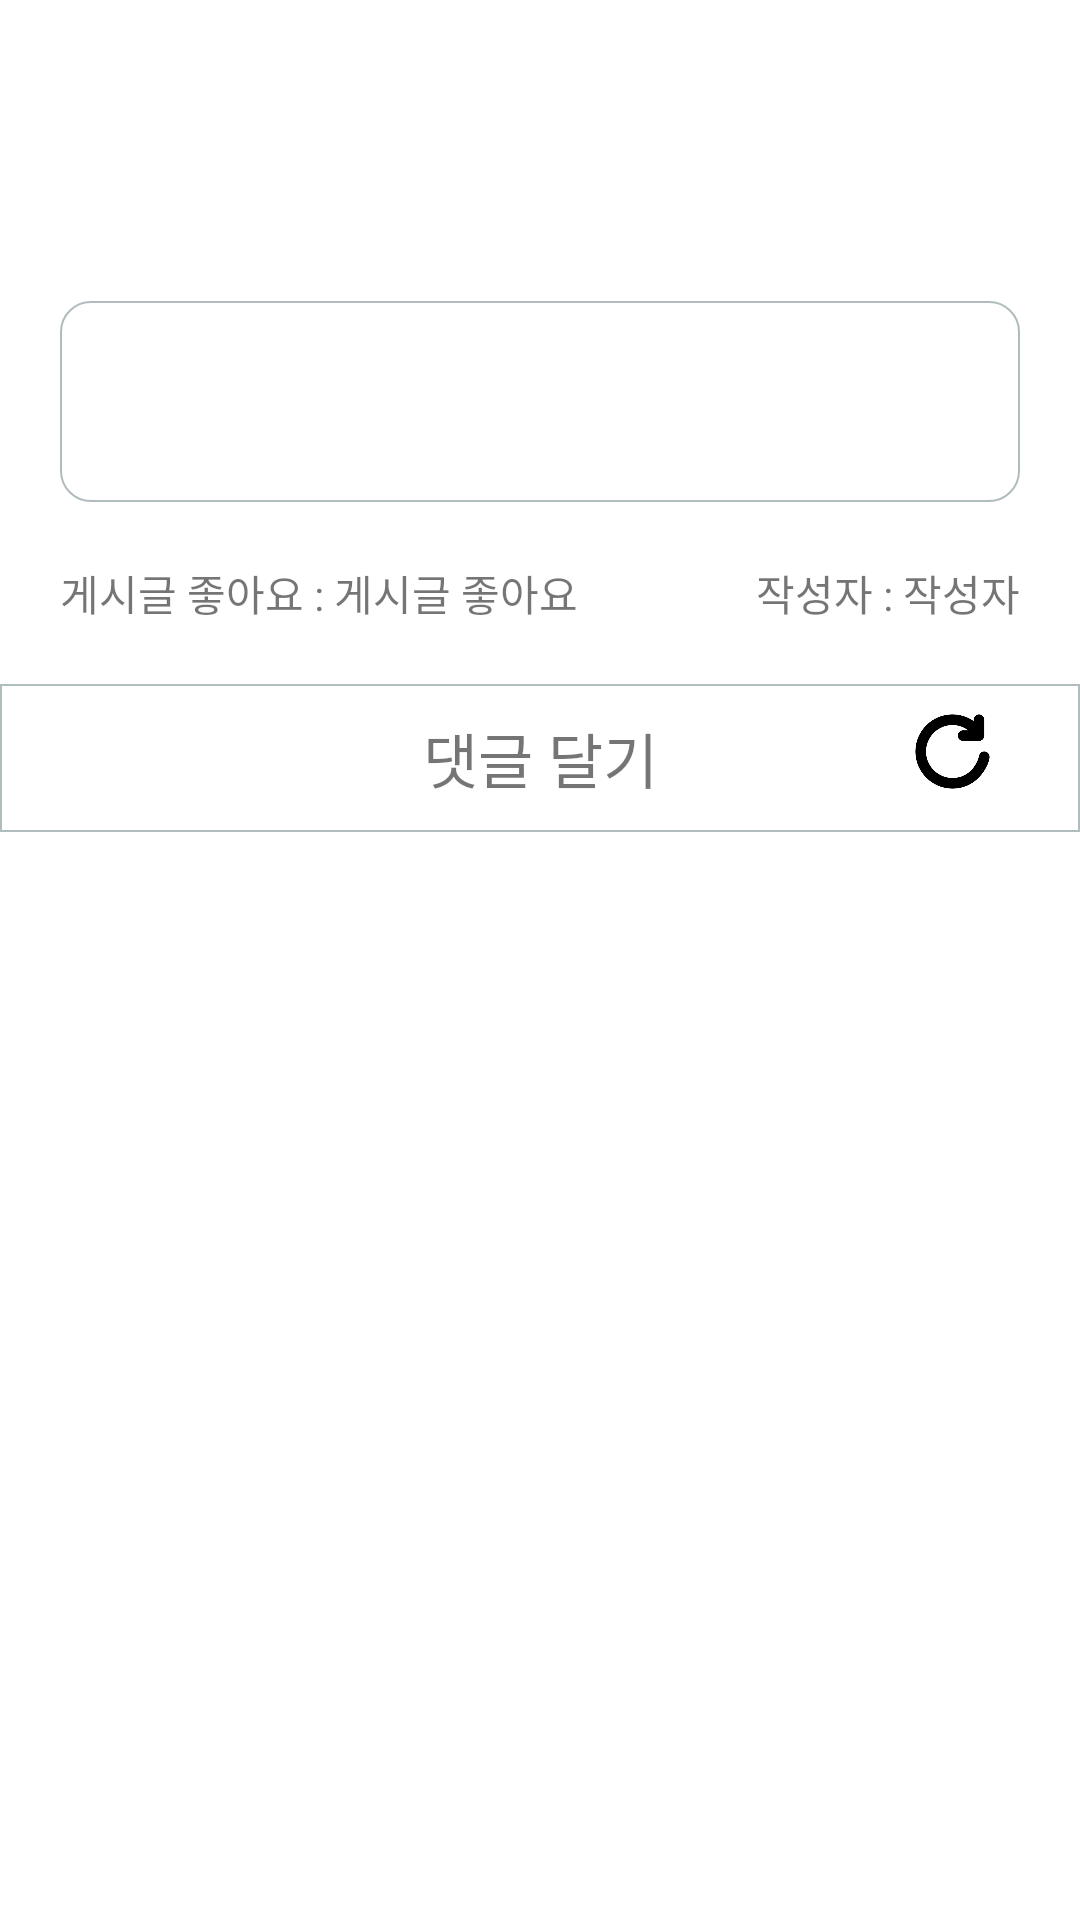

Where icons sit on this 1080 x 1920 app screen, as [left=x1, top=y1, right=x2, bottom=y2]:
refresh: [left=915, top=714, right=990, bottom=789]
